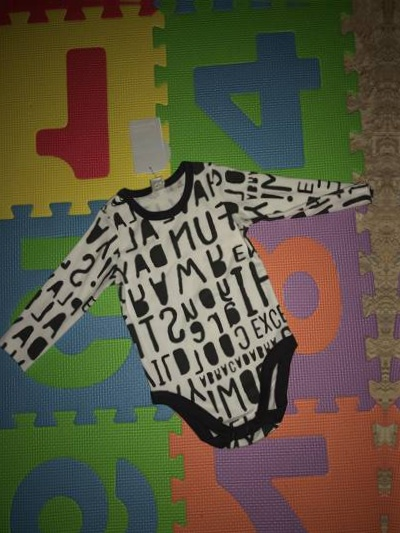Body: (0, 126, 384, 452), (390, 129, 400, 455)
